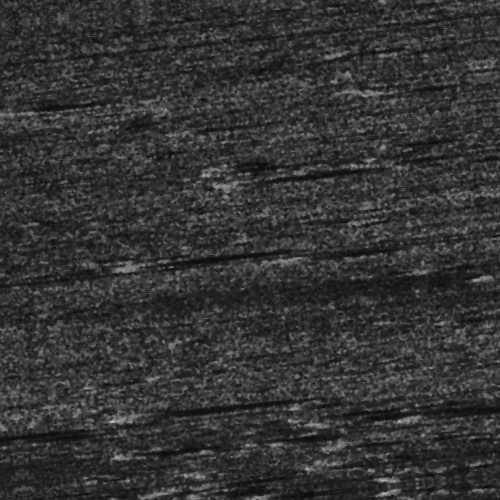object: (193, 174, 318, 185), (51, 436, 144, 447), (143, 470, 226, 481), (72, 397, 145, 406), (252, 256, 345, 263), (359, 428, 432, 435), (17, 79, 70, 86), (99, 250, 172, 255), (473, 295, 500, 302)
shadow: (185, 470, 333, 481), (256, 174, 403, 185), (108, 397, 275, 406), (0, 403, 83, 414), (44, 79, 174, 86), (396, 428, 500, 435), (135, 250, 274, 255), (299, 256, 390, 263), (97, 436, 153, 447), (489, 295, 500, 302)
